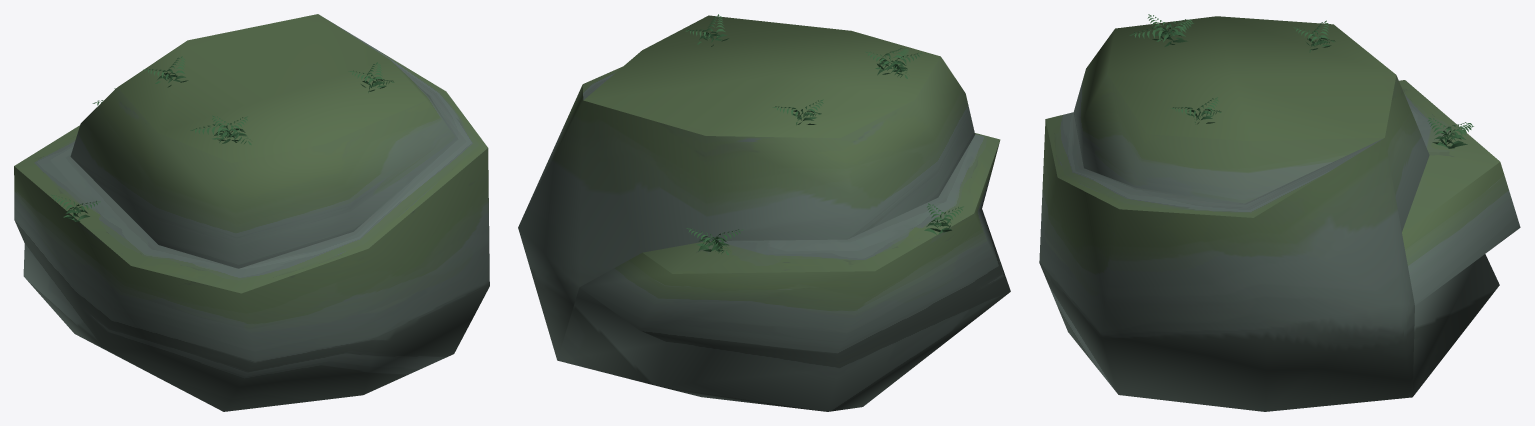
The model's file is Rock.fbx.
3 renders of one model, left to right at view 1: azimuth 30°, elevation 25°; view 2: azimuth 150°, elevation 25°; view 3: azimuth 270°, elevation 25°, orthographic. The views are drawn at different scales.
Visible parts, largest first — view 1: Rock, Plane.001; view 2: Rock, Plane.001, Plane.012, Plane.017; view 3: Rock, Plane.001, Plane.012.
Part boxes in pixels (bbox=[...]): Rock: bbox=[14, 14, 489, 411]; Plane.001: bbox=[190, 115, 251, 145]; Rock: bbox=[518, 15, 1010, 411]; Plane.001: bbox=[865, 48, 922, 78]; Plane.012: bbox=[686, 228, 743, 255]; Plane.017: bbox=[924, 203, 963, 234]; Rock: bbox=[1039, 16, 1520, 411]; Plane.001: bbox=[1129, 14, 1193, 46]; Plane.012: bbox=[1427, 117, 1473, 148].
Bounding box in the file's own units: 674 × 419 × 678.
